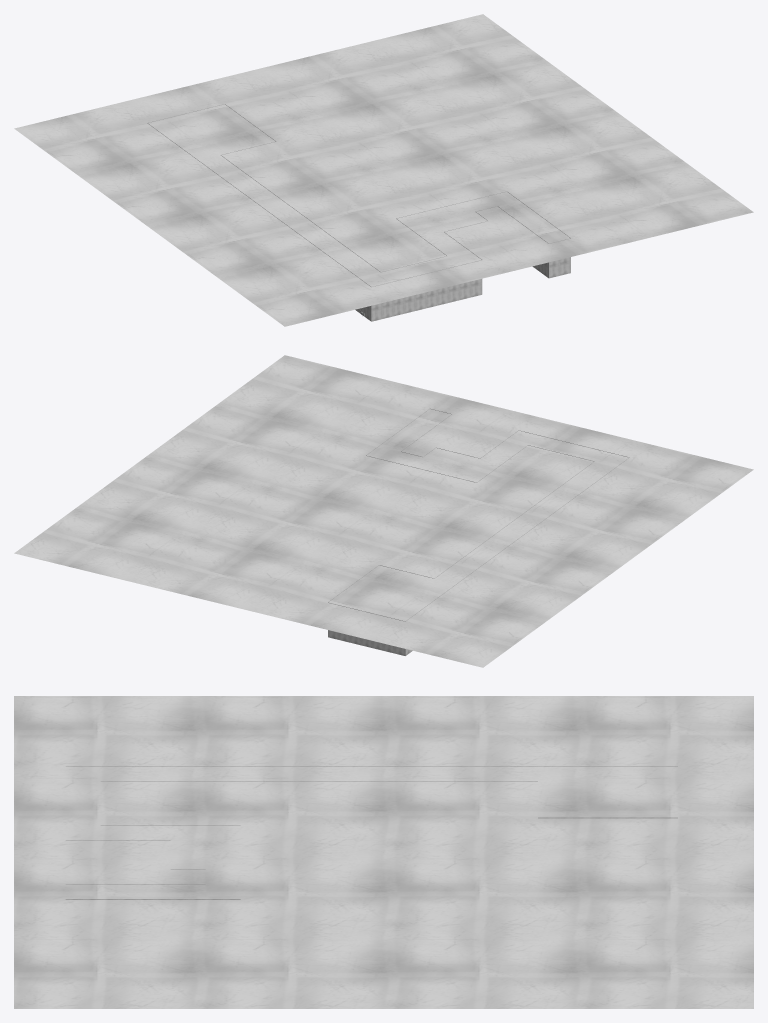
Rendered from Level 2.fbx.
The picture shows the model from 3 angles, top to bottom: view 1: azimuth 30°, elevation 25°; view 2: azimuth 150°, elevation 25°; view 3: azimuth 270°, elevation 25°; orthographic projection. The views are drawn at different scales.
Visible parts, largest first — view 1: Plane, Walls.009, Walls.025; view 2: Plane, Walls.012; view 3: Plane, Walls.042.
Boxes of the visible parts, x1=… form: Plane: x1=14, y1=14, x2=753, y2=326; Walls.009: x1=371, y1=283, x2=482, y2=321; Walls.025: x1=371, y1=279, x2=482, y2=309; Plane: x1=14, y1=355, x2=753, y2=667; Walls.012: x1=328, y1=630, x2=405, y2=655; Plane: x1=14, y1=696, x2=753, y2=1008; Walls.042: x1=66, y1=766, x2=677, y2=766.
Bounding box in the file's own units: 13952 × 999 × 13952.
